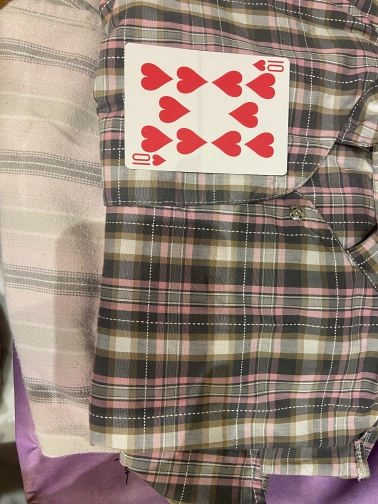ten: (122, 41, 291, 178)
